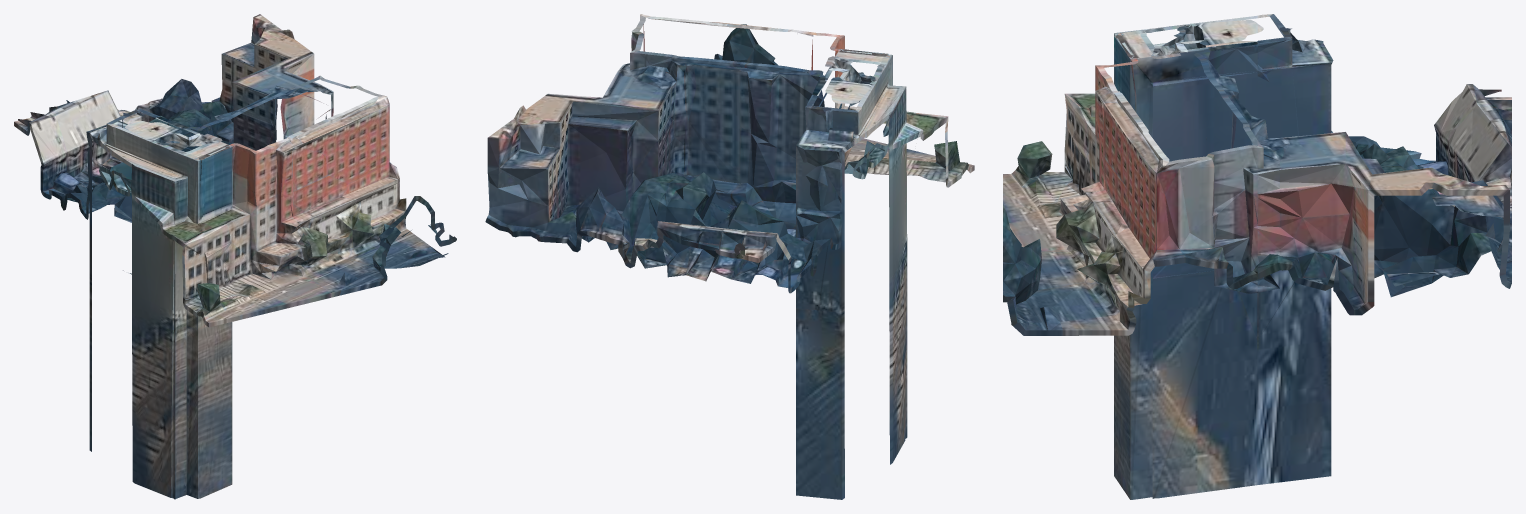
Rendered from chunk_1_-10.glb.
The picture shows the model from 3 angles, left to right: view 1: azimuth 30°, elevation 25°; view 2: azimuth 150°, elevation 25°; view 3: azimuth 270°, elevation 25°; orthographic projection. The views are drawn at different scales.
Visible parts, largest first — view 1: hero-chunk; view 2: hero-chunk; view 3: hero-chunk.
Boxes of the visible parts, bbox=[...] form: hero-chunk: bbox=[14, 14, 456, 499]; hero-chunk: bbox=[485, 14, 974, 499]; hero-chunk: bbox=[1003, 14, 1511, 499].
Bounding box in the file's own units: 56.04 × 72.96 × 76.32.
Materials: 1 (1 with a texture image).
